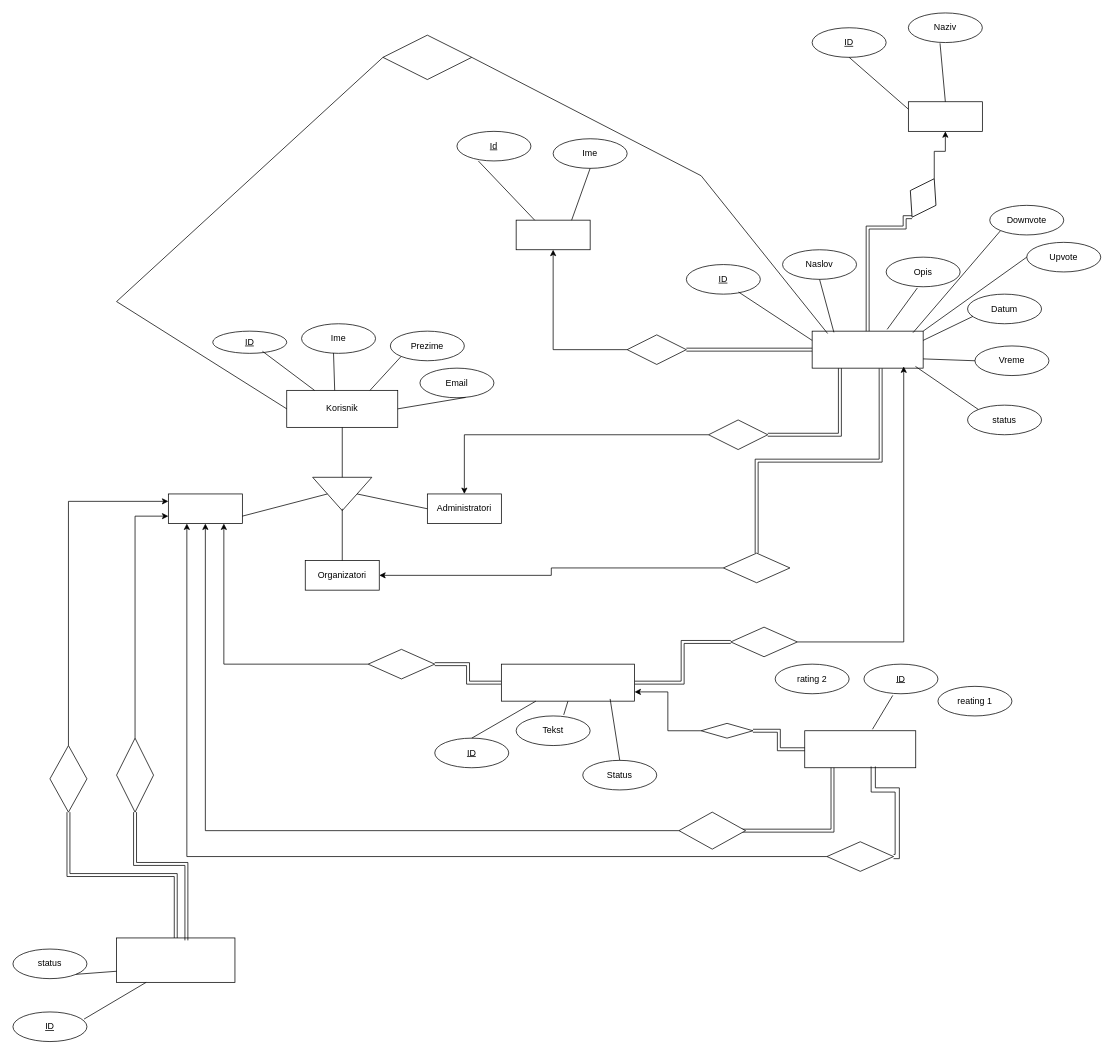
This 1114x1055 diagram has some shape labels left out. The shapes that lost their labels are listed below. From the top down, each one's centre as x and y in pixels, then its label:
At [427,57]: "Omiljeni".
At [945,116]: "Tip".
At [552,234]: "Grad".
At [867,349]: "Objava".
At [205,508]: "Obicni".
At [568,682]: "Podji Sa Mnom Prijava".
At [860,749]: "Podji sa mnom cet".
At [175,959]: "Podji sa mnom zahtev".
